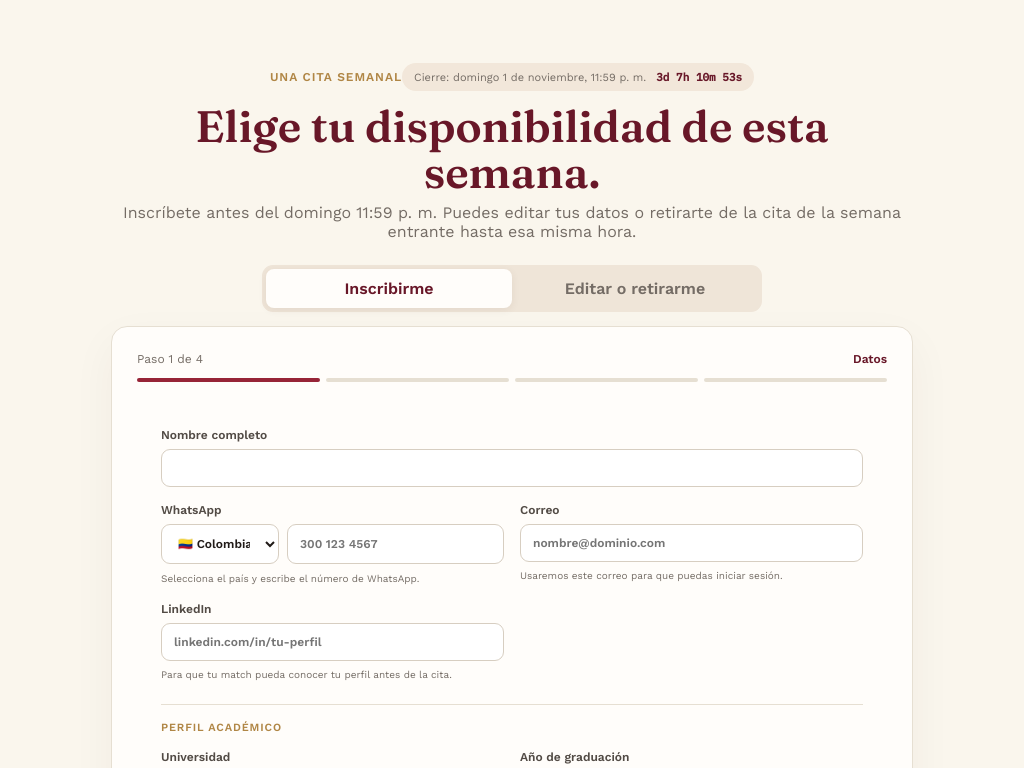
it: RegistrationPanel · validación del paso 1 › se habilita cuando todos los campos requeridos del paso 1 son válidos
Type "Ana Pérez" into the field labelled "Nombre completo" at (512, 468), box [161,449,863,487]
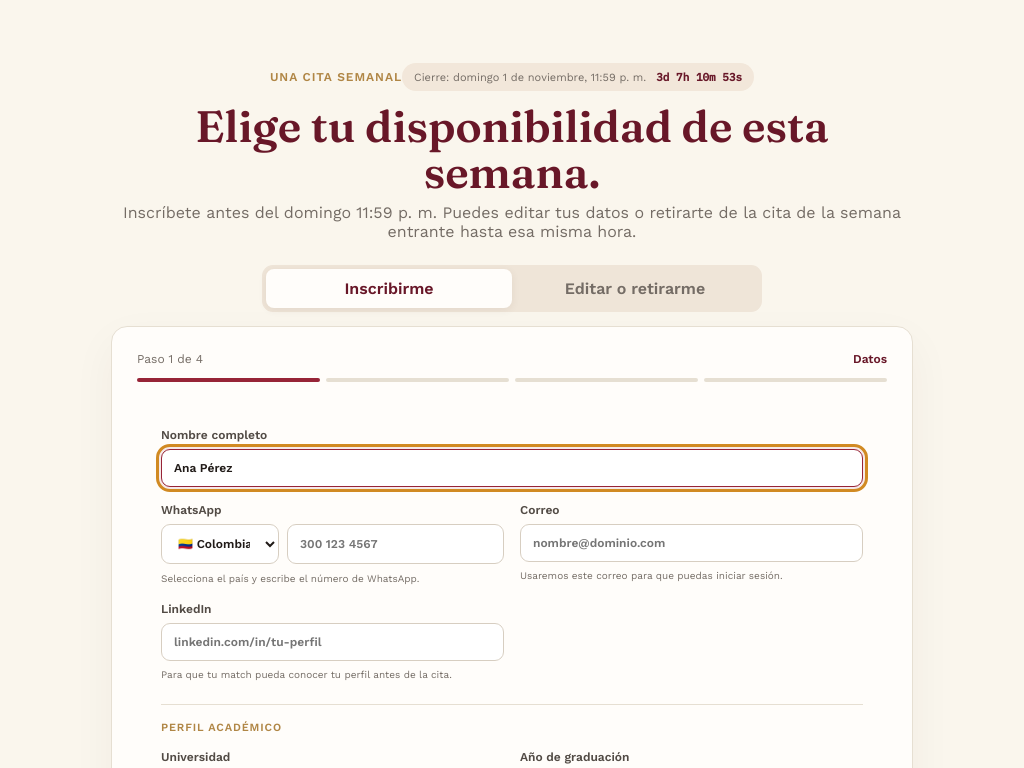
Type "3001234567" into the field with placeholder "300 123 4567" at (396, 544), box [287,524,504,564]
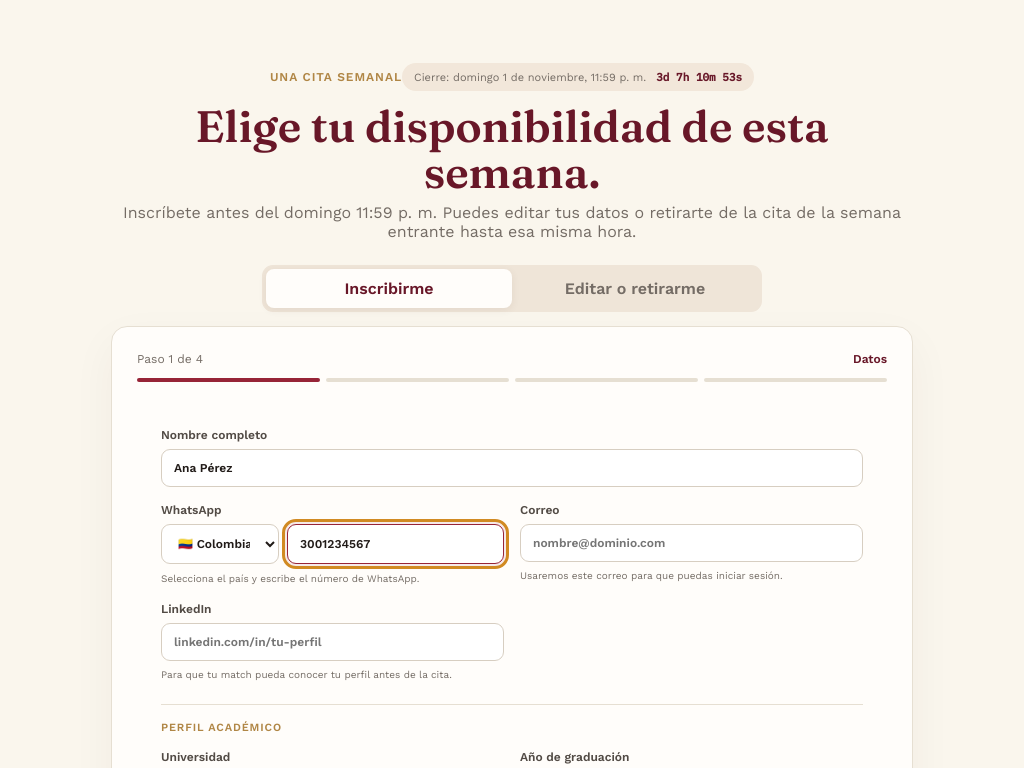
Type "ana@example.com" into the field labelled "Correo Usaremos este correo para que puedas iniciar sesión." at (692, 543), box [520,524,863,562]
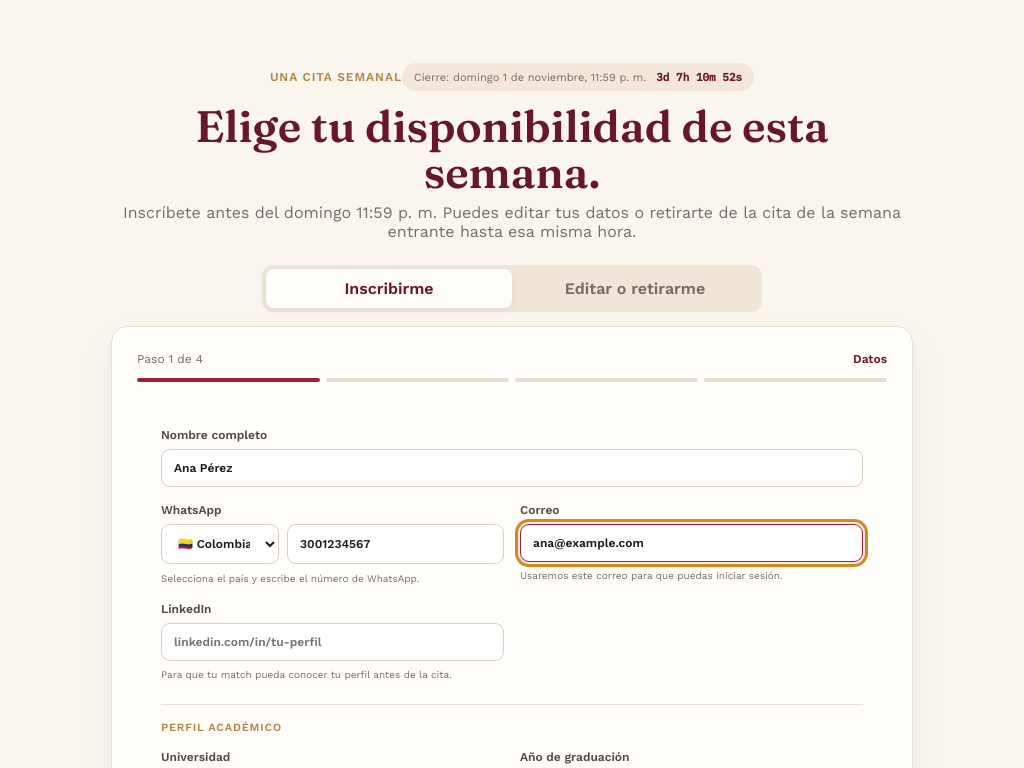
Type "https://linkedin.com/in/ana" into the field labelled "LinkedIn" at (332, 642), box [161,623,504,661]
(page scrolled)
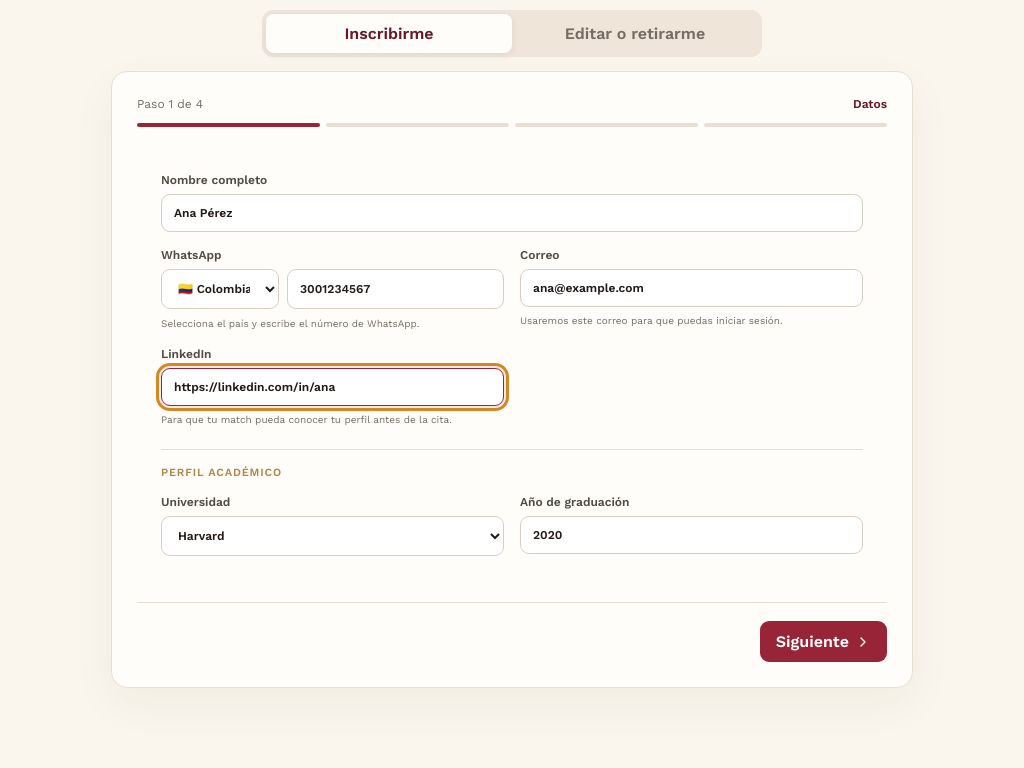
Expected: the button "Siguiente" is enabled, [760,621,887,662]
